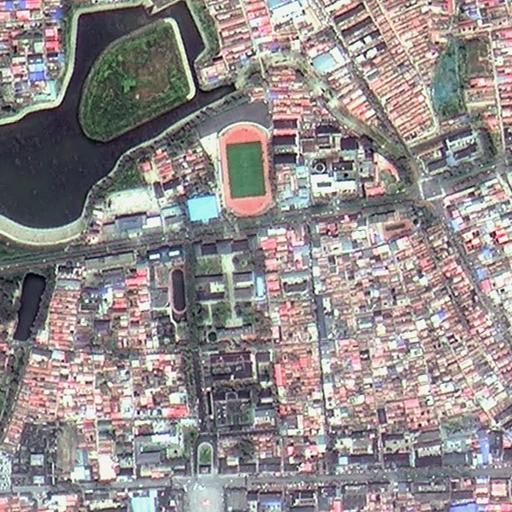school: (97, 185, 163, 237), (147, 245, 188, 324)
